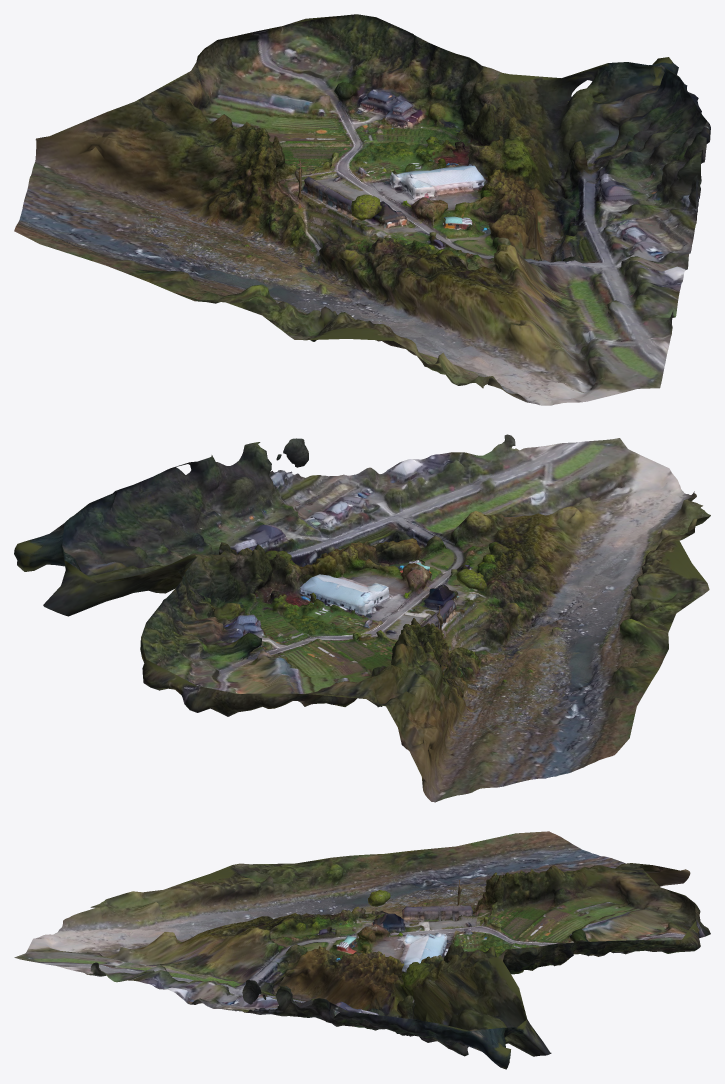
File: week-kamiyama.glb
The picture shows the model from 3 angles, top to bottom: view 1: azimuth 30°, elevation 25°; view 2: azimuth 150°, elevation 25°; view 3: azimuth 270°, elevation 25°; orthographic projection. The views are drawn at different scales.
Parts seen in each view (by area): view 1: baked_mesh; view 2: baked_mesh; view 3: baked_mesh.
Part boxes in pixels (box(x1,y1,x2,y2)): baked_mesh: box(14, 14, 710, 405); baked_mesh: box(14, 434, 710, 802); baked_mesh: box(14, 831, 710, 1069).
Size of the model in its own units: 2.63 by 0.4004 by 3.05.
1 material, 1 textured.
